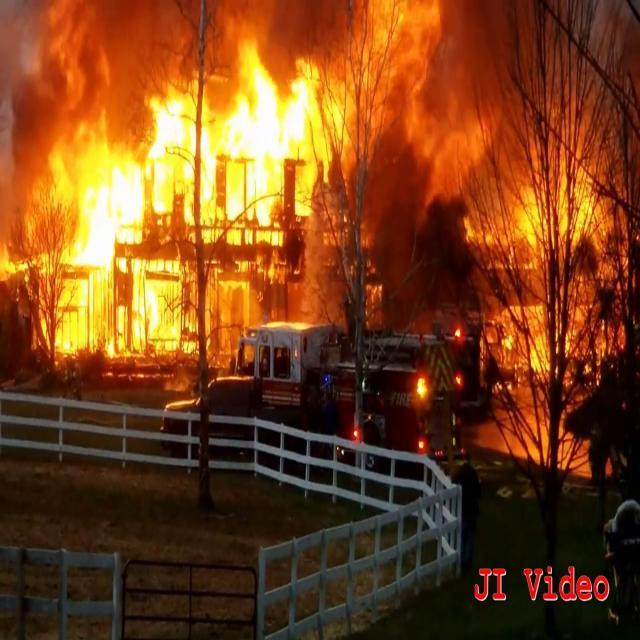Fire: (11, 15, 332, 384)
Smoke: (366, 0, 636, 400), (0, 0, 66, 420), (0, 0, 69, 290)
